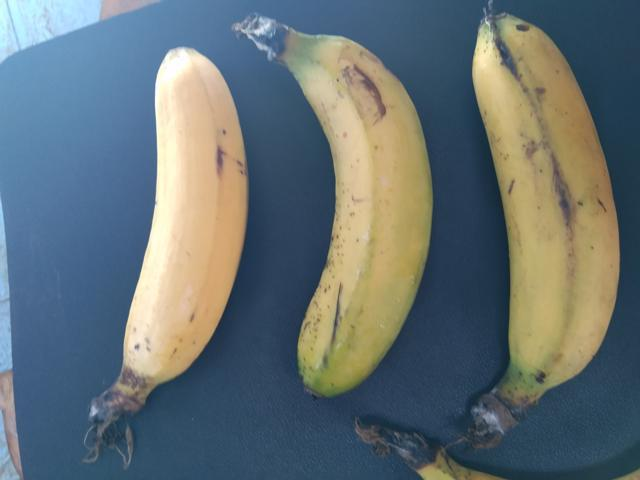freshripe: (99, 42, 267, 439)
ripe: (474, 9, 637, 452), (259, 18, 447, 394)
